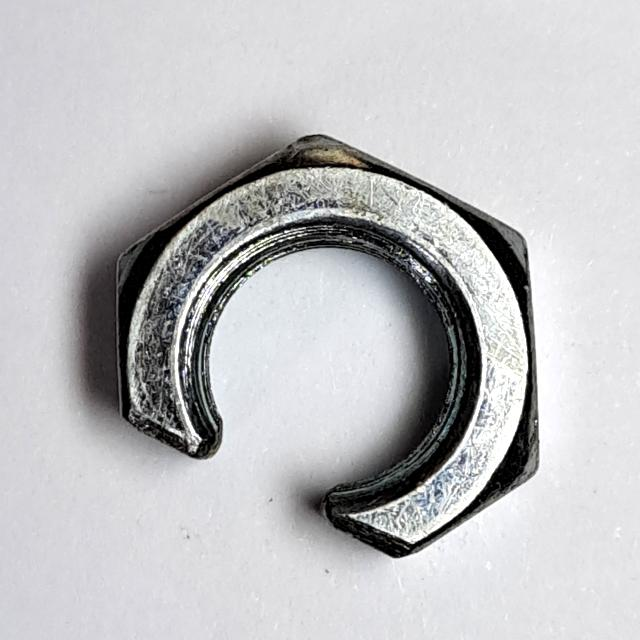Fracture: (100, 119, 570, 575)
